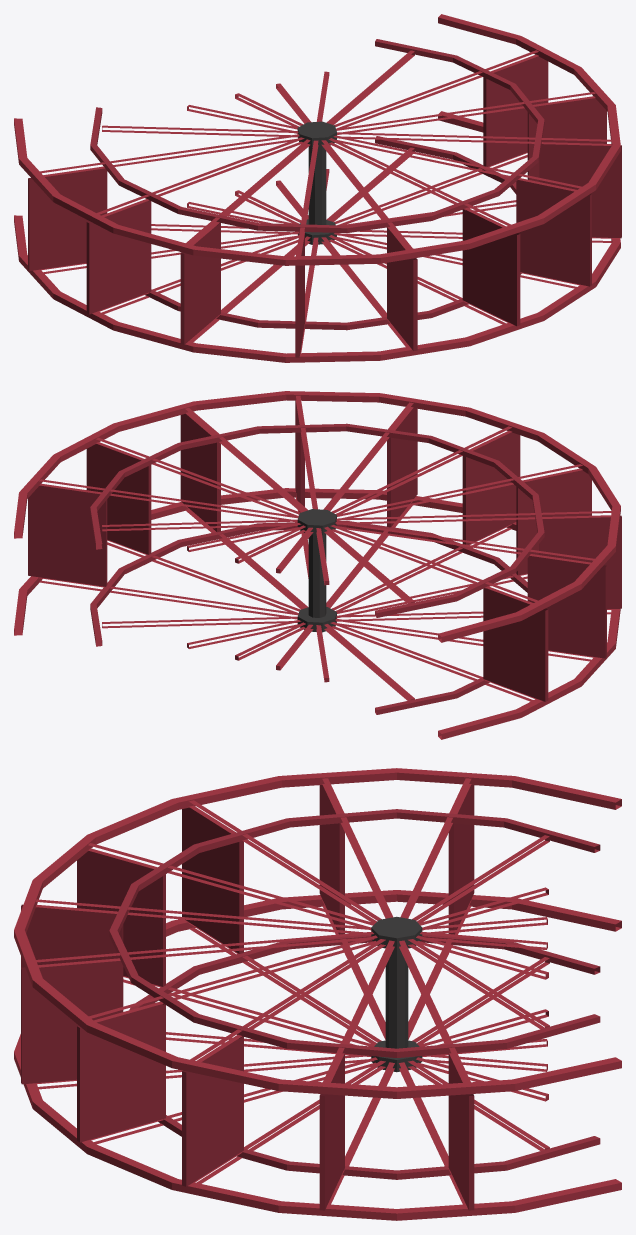
File: wheel.obj
The picture shows the model from 3 angles, top to bottom: view 1: azimuth 30°, elevation 25°; view 2: azimuth 150°, elevation 25°; view 3: azimuth 270°, elevation 25°; orthographic projection. The views are drawn at different scales.
Size of the model in its own units: 5.7 by 1.1 by 4.53.
Materials: 1 (1 with a texture image).
